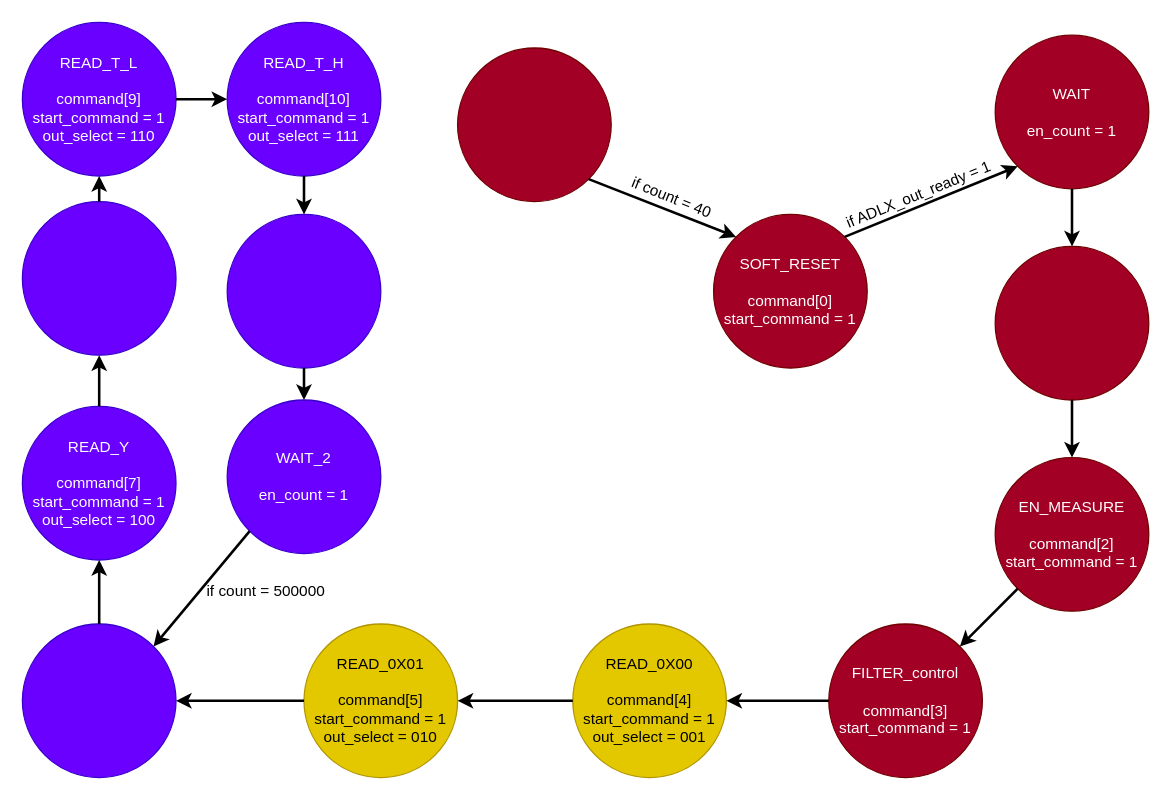
This 1171x800 diagram has some shape labels left out. The box of each missing label's shape, as (x1, y1, x2, y2) in pixels:
READ_X command[6] start_command = 1 out_select = 011: (21, 623, 176, 778)
READ_Z command[8] start_command = 1 out_select = 101: (21, 200, 176, 355)
REPEAT repeat_count_sig = 1 en_count = 1: (226, 213, 381, 368)
SETUP_MMCM en_count = 1: (456, 47, 611, 202)
STOP_RESET command[1] start_command = 1: (994, 245, 1149, 400)
